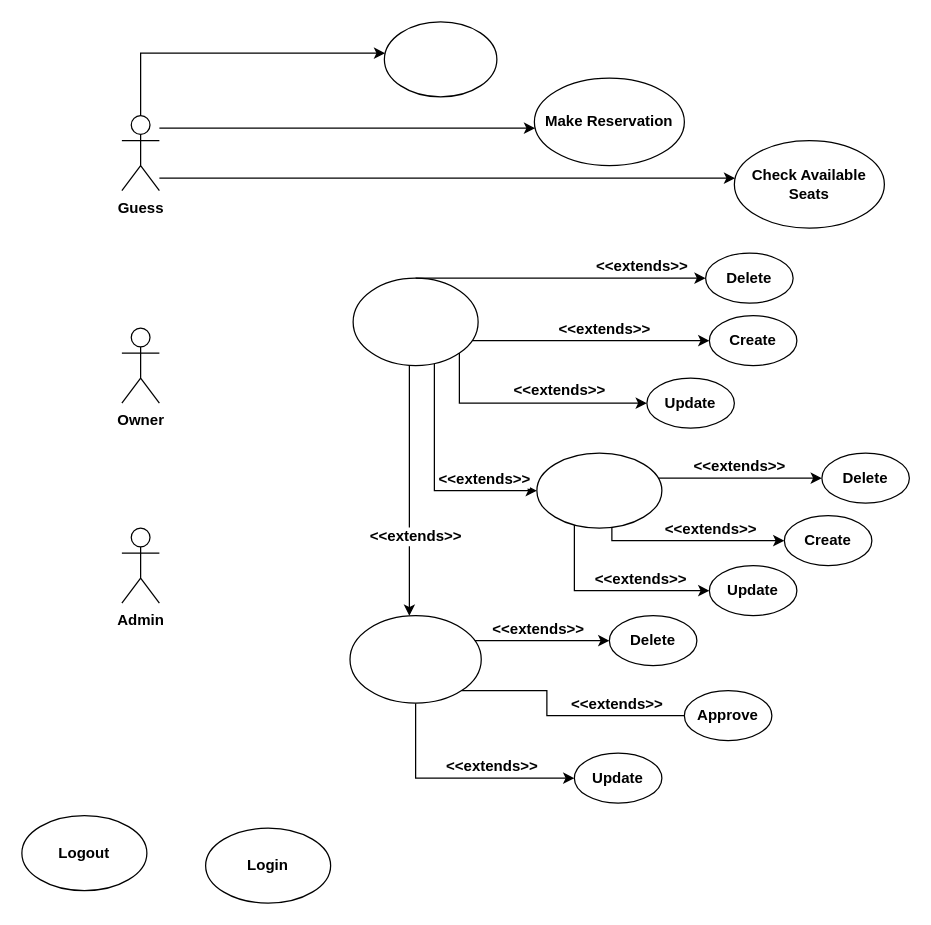
Image size: 931x925. Some labels were removed from this diagram. The shapes that lost their labels are listed below. From the top down, each one's centre as x and y in pixels, then its label:
At [440,59]: "Search".
At [415,321]: "Manage Restaurants".
At [599,490]: "Manage Tables".
At [415,658]: "Manage Reservations".
